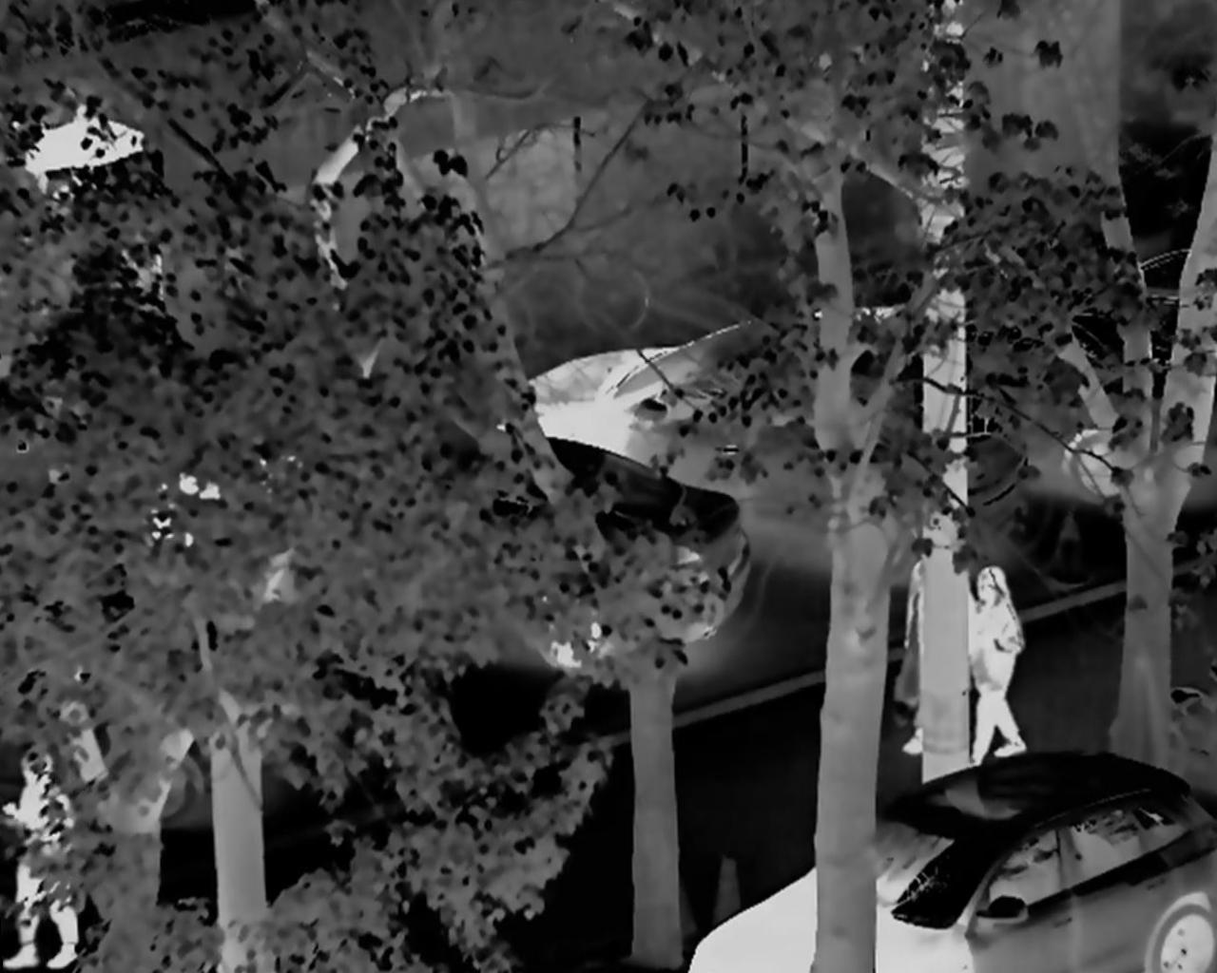person: (2, 754, 98, 973), (897, 537, 964, 759), (961, 563, 1032, 765)
